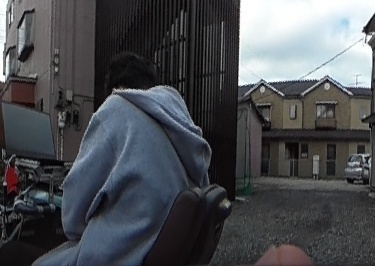person: (35, 54, 212, 266)
